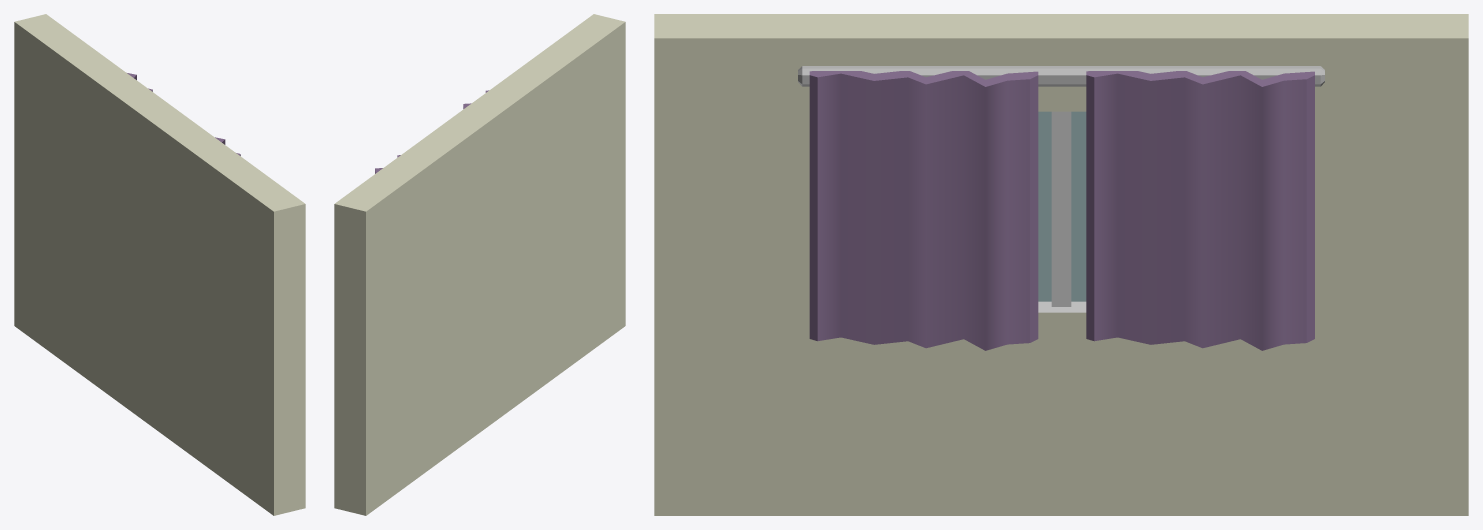
The model's file is Wall_Bedroom_01.fbx.
The picture shows the model from 3 angles, left to right: view 1: azimuth 30°, elevation 25°; view 2: azimuth 150°, elevation 25°; view 3: azimuth 270°, elevation 25°; orthographic projection. The views are drawn at different scales.
Visible parts, largest first — view 1: Wall_base_01; view 2: Wall_base_01; view 3: Wall_base_01, Curtain_01, Curtain_02, CurtainPole_01.
Boxes of the visible parts, <box> form: Wall_base_01: <box>14,14,305,515</box>; Wall_base_01: <box>334,14,625,515</box>; Wall_base_01: <box>654,14,1468,515</box>; Curtain_01: <box>809,71,1038,350</box>; Curtain_02: <box>1086,71,1314,350</box>; CurtainPole_01: <box>798,66,1324,86</box>.
Bounding box in the file's own units: 0.1957 × 1 × 1.55.
